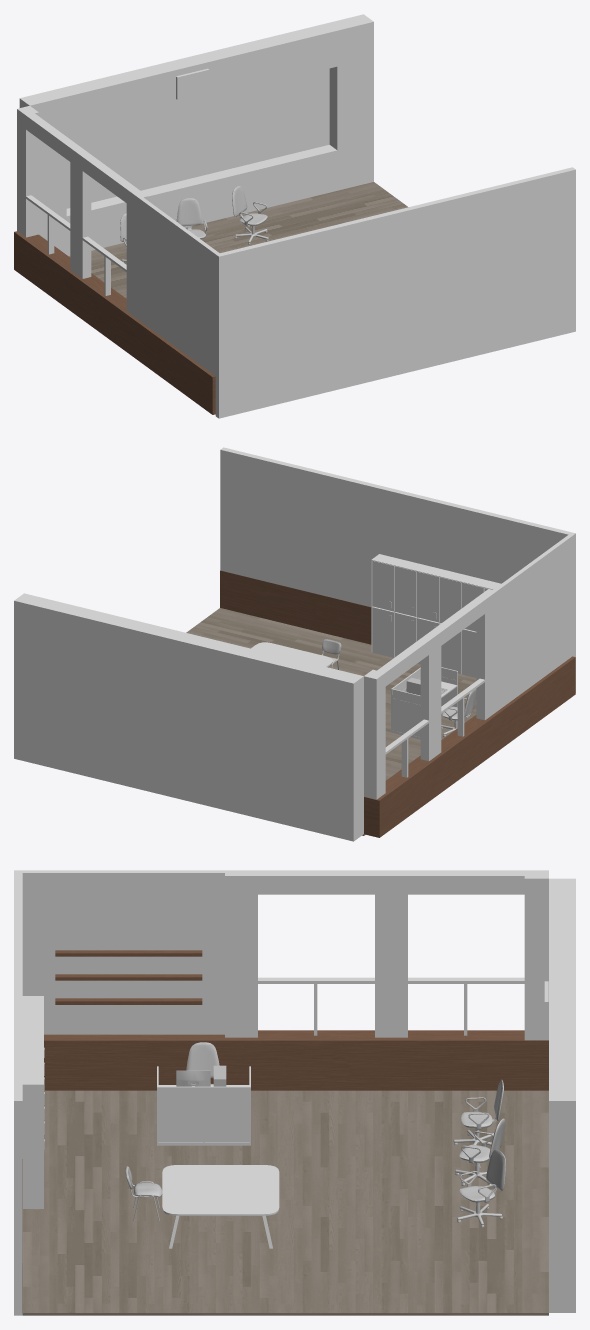
Rendered from teacher room.fbx.
3 renders of one model, top to bottom at view 1: azimuth 30°, elevation 25°; view 2: azimuth 150°, elevation 25°; view 3: azimuth 270°, elevation 25°, orthographic. The views are drawn at different scales.
Visible parts, largest first — view 1: Box070, Box062, Box063, Box011, Office Chair004, Box079, Office Chair003; view 2: Box062, Box070, Box063, Box011, Box105, Box094, Box084, Box003, Box019, Office Chair; view 3: Box011, Box070, Box063, Box062, Box019, Box003, Box094, Office Chair004, Office Chair003, Office Chair002, Object, Box071 (+6 smaller).
Part boxes in pixels (x1,y1,x2,y2): Box070: (17, 106, 575, 418); Box062: (19, 14, 373, 256); Box063: (14, 231, 215, 414); Box011: (69, 182, 408, 298); Office Chair004: (232, 186, 268, 244); Box079: (176, 68, 209, 99); Office Chair003: (176, 198, 207, 239); Box062: (14, 593, 363, 841); Box070: (220, 447, 575, 799); Box063: (364, 656, 575, 837); Box011: (186, 608, 476, 835); Box105: (220, 570, 371, 644); Box094: (371, 554, 501, 674); Box084: (372, 566, 487, 677); Box003: (392, 668, 456, 737); Box019: (251, 642, 332, 667); Office Chair: (441, 689, 476, 737); Box011: (22, 1090, 548, 1315); Box070: (14, 870, 548, 1315); Box063: (44, 1030, 548, 1090); Box062: (549, 878, 575, 1312); Box019: (162, 1165, 279, 1215); Box003: (158, 1088, 249, 1142); Box094: (22, 996, 43, 1208); Office Chair004: (457, 1149, 505, 1227); Office Chair003: (455, 1118, 505, 1185); Office Chair002: (453, 1079, 503, 1145); Object: (157, 1066, 250, 1145); Box071: (55, 998, 202, 1004).
Bounding box in the file's own units: 942 × 405 × 961.
